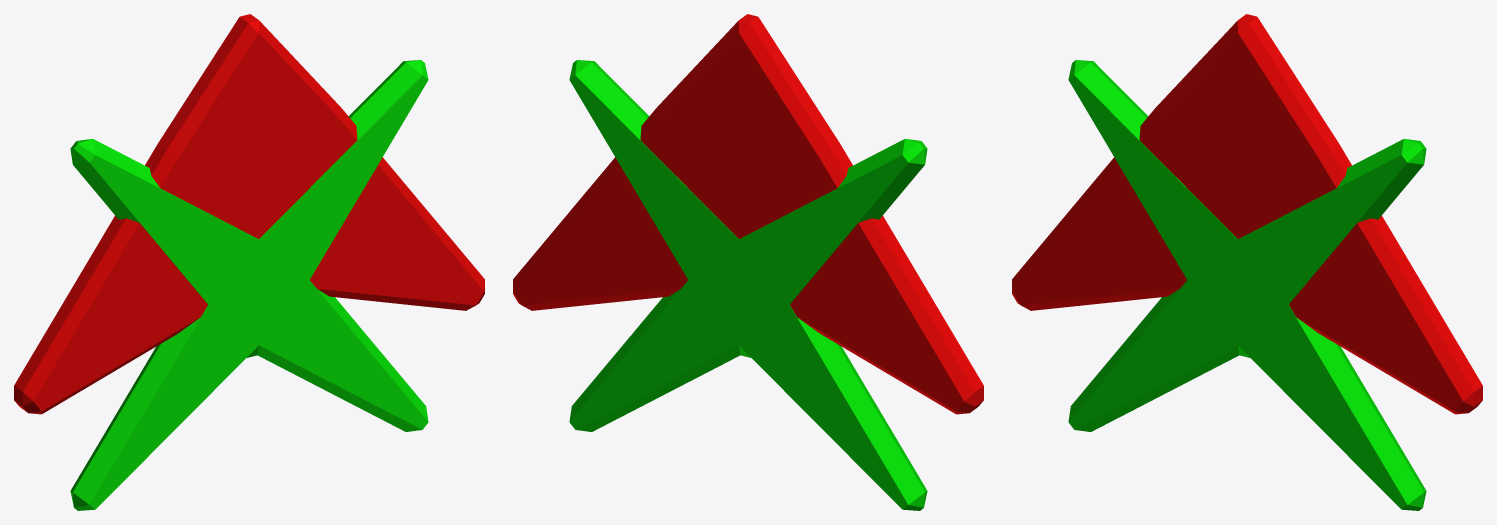
The model's file is PointerArrow.fbx.
The picture shows the model from 3 angles, left to right: view 1: azimuth 30°, elevation 25°; view 2: azimuth 150°, elevation 25°; view 3: azimuth 330°, elevation 25°; orthographic projection.
Visible parts, largest first — view 1: PointerArrow, DestinationPoint; view 2: PointerArrow, DestinationPoint; view 3: PointerArrow, DestinationPoint.
Boxes of the visible parts, x1,y1,x2,y2 form: PointerArrow: [14, 14, 484, 414]; DestinationPoint: [70, 60, 428, 510]; PointerArrow: [513, 14, 983, 414]; DestinationPoint: [569, 60, 927, 510]; PointerArrow: [1012, 14, 1482, 414]; DestinationPoint: [1068, 60, 1426, 510].
Size of the model in its own units: 1.32 by 1.24 by 0.095.
